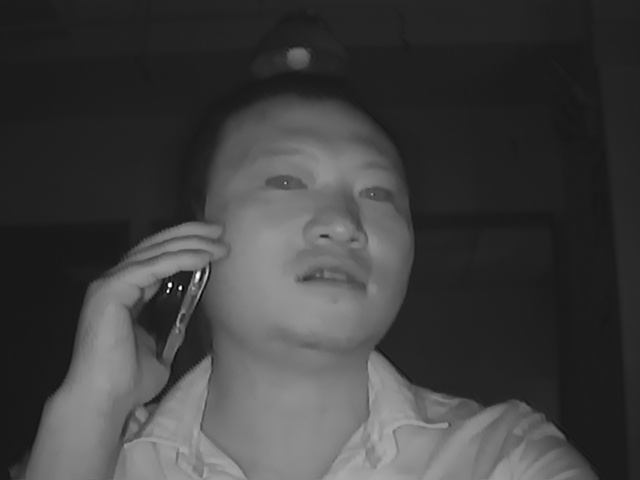hand: (63, 219, 230, 408)
